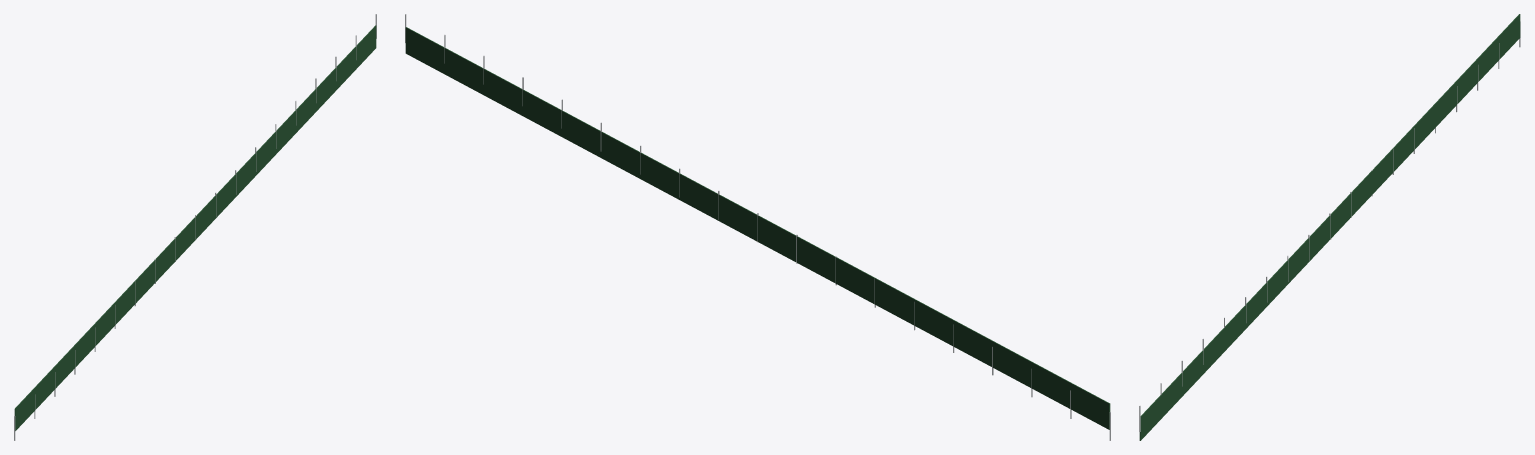
File: barc_fence.glb
3 renders of one model, left to right at view 1: azimuth 90°, elevation 25°; view 2: azimuth 150°, elevation 25°; view 3: azimuth 270°, elevation 25°, orthographic. The views are drawn at different scales.
Visible parts, largest first — view 1: barc_fence_lod0; view 2: barc_fence_lod0; view 3: barc_fence_lod0.
Part boxes in pixels (x1=…): barc_fence_lod0: x1=14, y1=14, x2=376, y2=440; barc_fence_lod0: x1=405, y1=14, x2=1110, y2=440; barc_fence_lod0: x1=1139, y1=14, x2=1520, y2=440.
Size of what is drawn, in the model's own units: 83.81 by 4.35 by 33.42.
